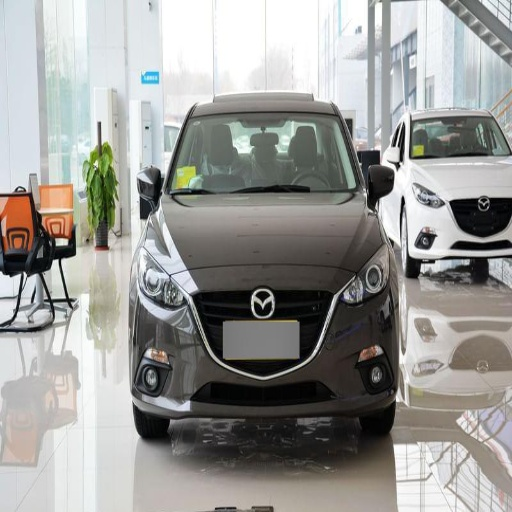back_right_light: (130, 271, 397, 419)
front_bumper: (173, 112, 357, 194)
front_left_door: (339, 253, 389, 305)
front_right_door: (135, 233, 184, 309)
front_right_light: (156, 193, 381, 271)
hood: (368, 158, 398, 200)
left_mirror: (139, 166, 162, 198)
trunk: (135, 409, 170, 438)
